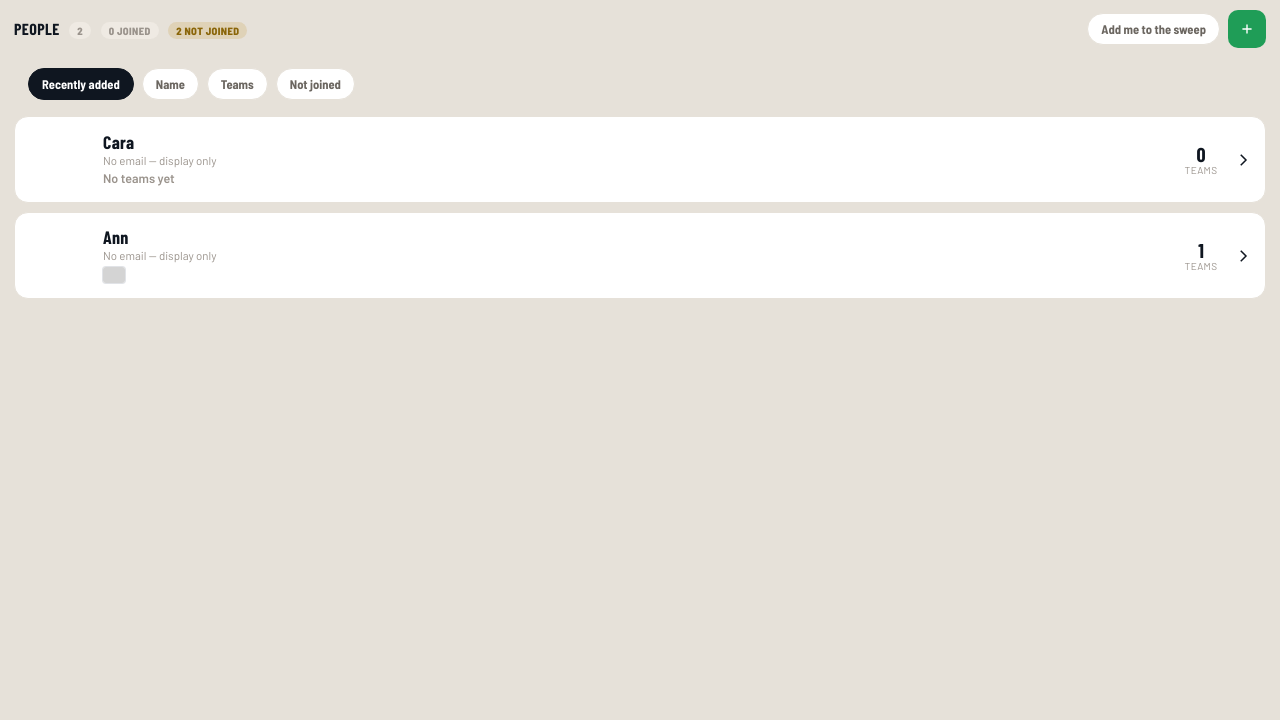
Scenario: Add-person sheet shows the selected teams as chips after allocate random
Click the button named "Add person" at (1247, 29), box [1228,10,1266,48]
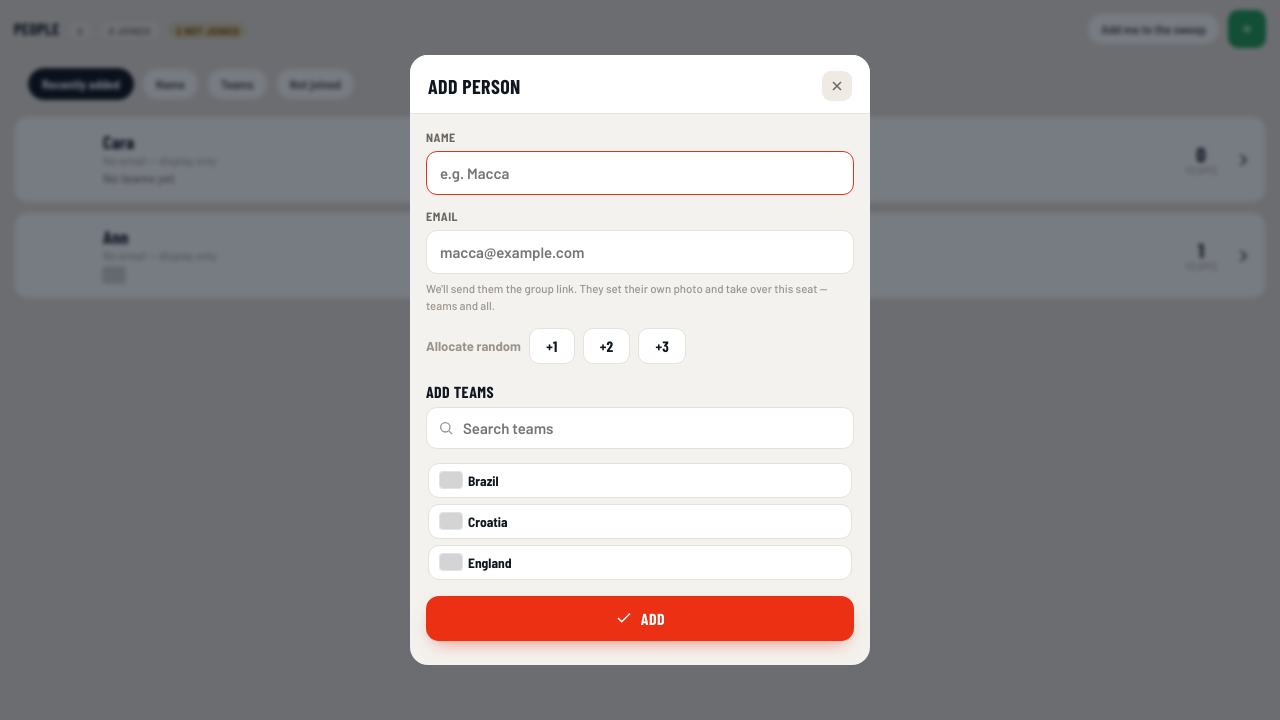
Expected: the text "Selected (" is not shown
Click the button "+2" at (607, 346), box [583,328,630,364]
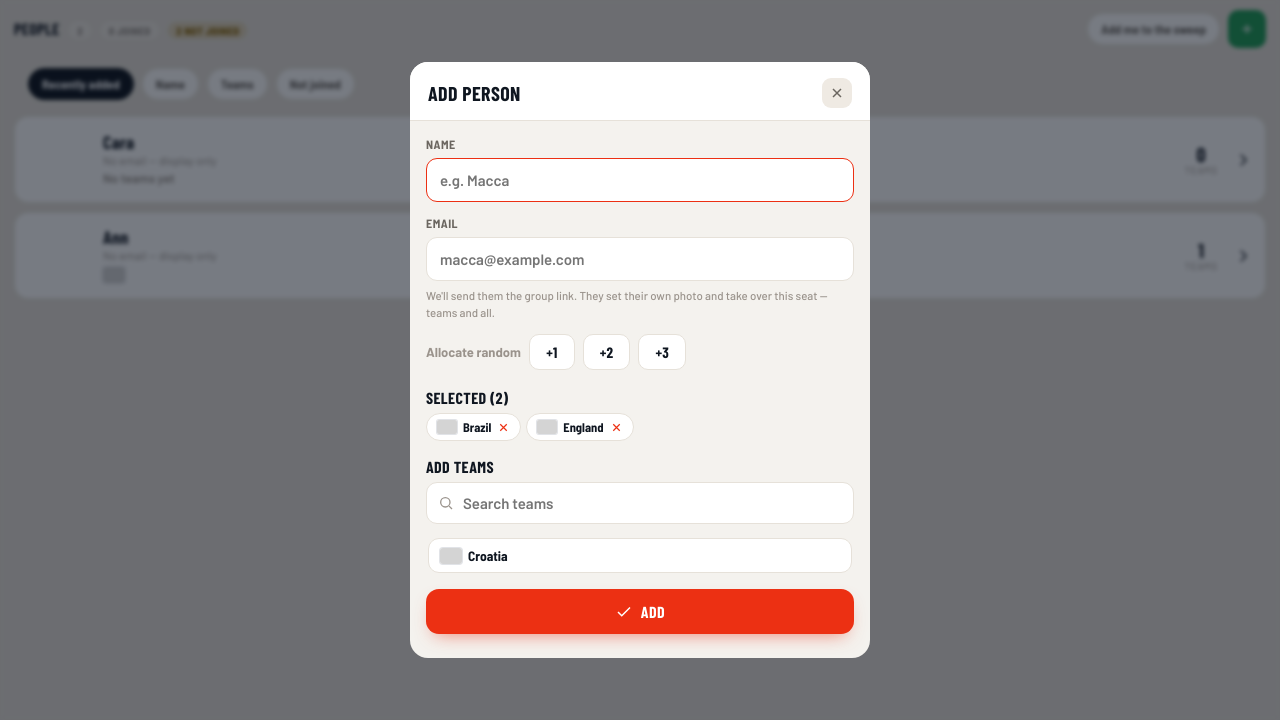
Result: the heading "Selected (2)" is shown at [426,388,508,407]
